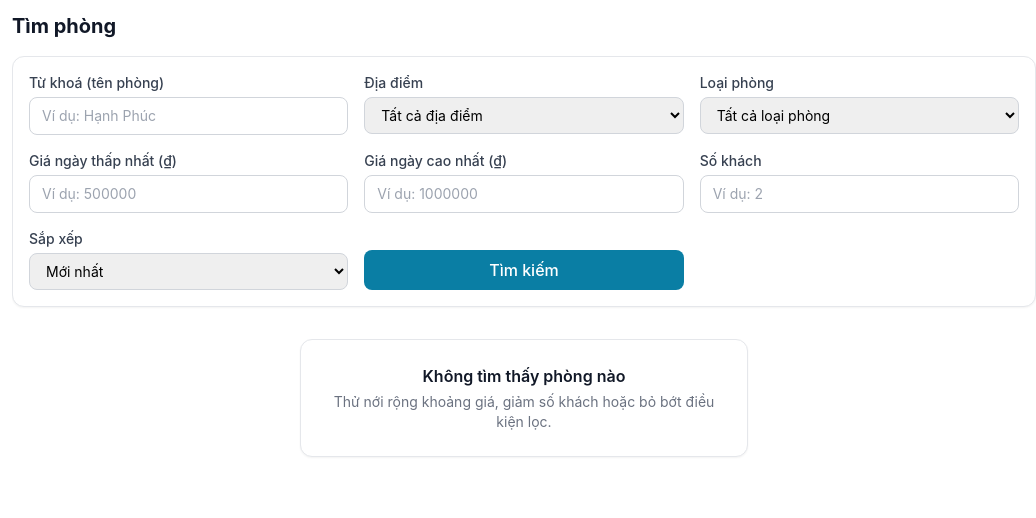
Scenario: Rooms - bo loc › MinPriceLonHonMaxPrice_BaoLoiTaiForm_KhongGoiApi
The width and height of the screenshot is (1036, 518).
Expected: the text "Không tìm thấy phòng nào" is shown, [423, 366, 625, 386]
Type "1000000" into the number field with placeholder "Ví dụ: 500000". click: (189, 194)
box: [29, 175, 348, 213]
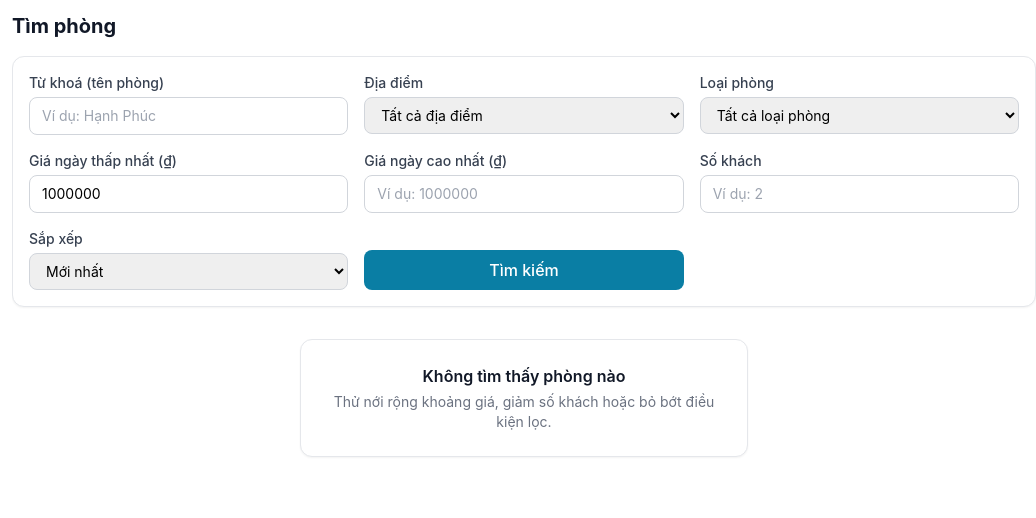
Type "500000" into the number field with placeholder "Ví dụ: 1000000". click: (524, 194)
box: [364, 175, 684, 213]
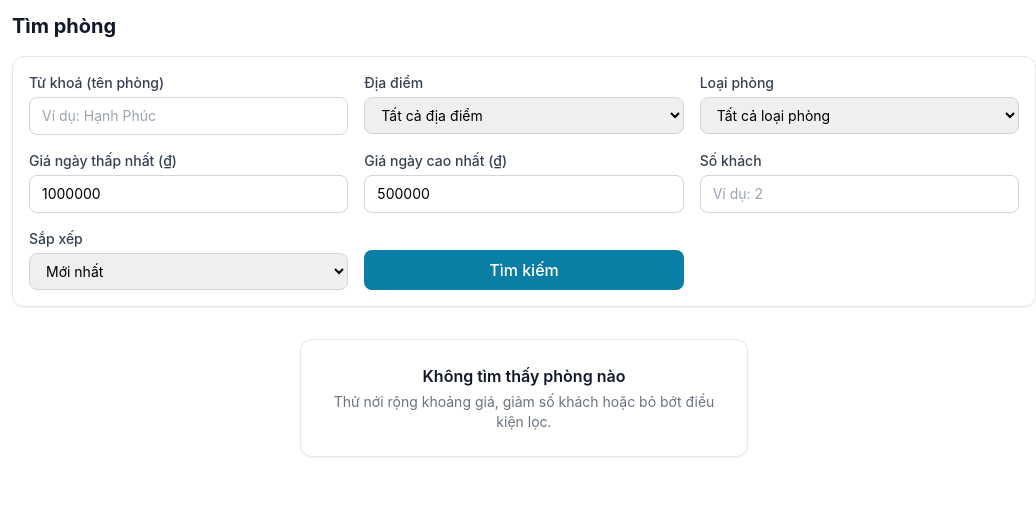
Click the button "Tìm kiếm". click: (524, 270)
box: [364, 250, 684, 290]
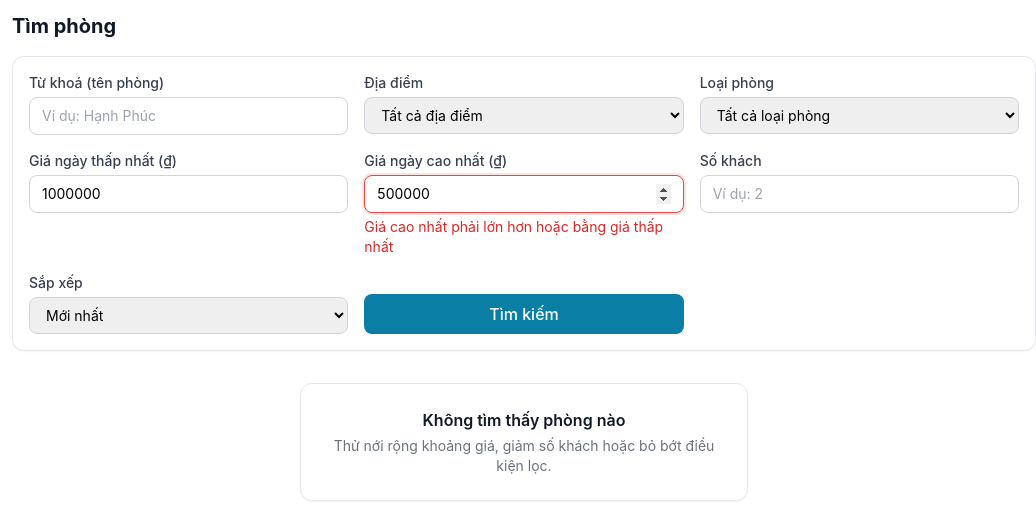
Expected: the text "Giá cao nhất phải lớn hơn hoặc bằng giá thấp nhất" is shown, [364, 217, 684, 257]
